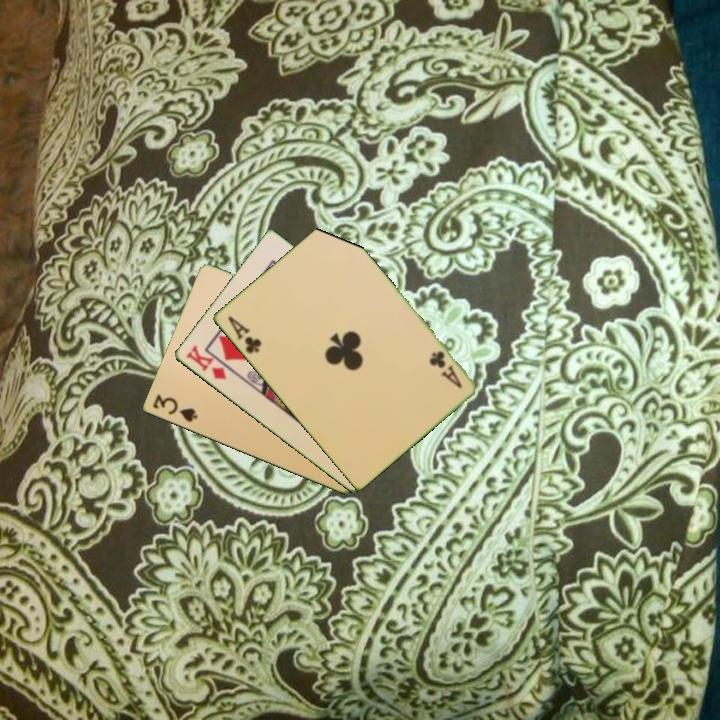3s: (149, 391, 200, 425)
Ac: (224, 312, 264, 357), (425, 347, 465, 391)
Kd: (182, 341, 229, 383)
